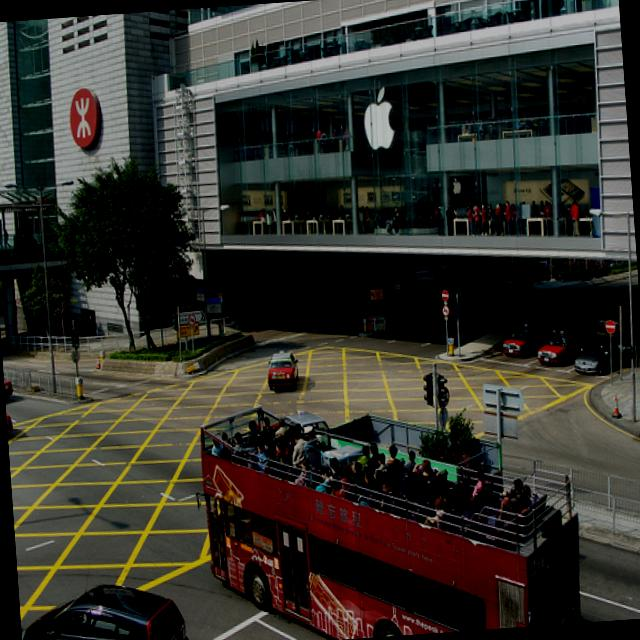Vehicle: (195, 378, 586, 640), (17, 573, 192, 640), (535, 328, 588, 367), (572, 334, 620, 376), (500, 322, 551, 358), (266, 351, 300, 390), (460, 264, 488, 282), (3, 369, 15, 401), (5, 399, 12, 437)
